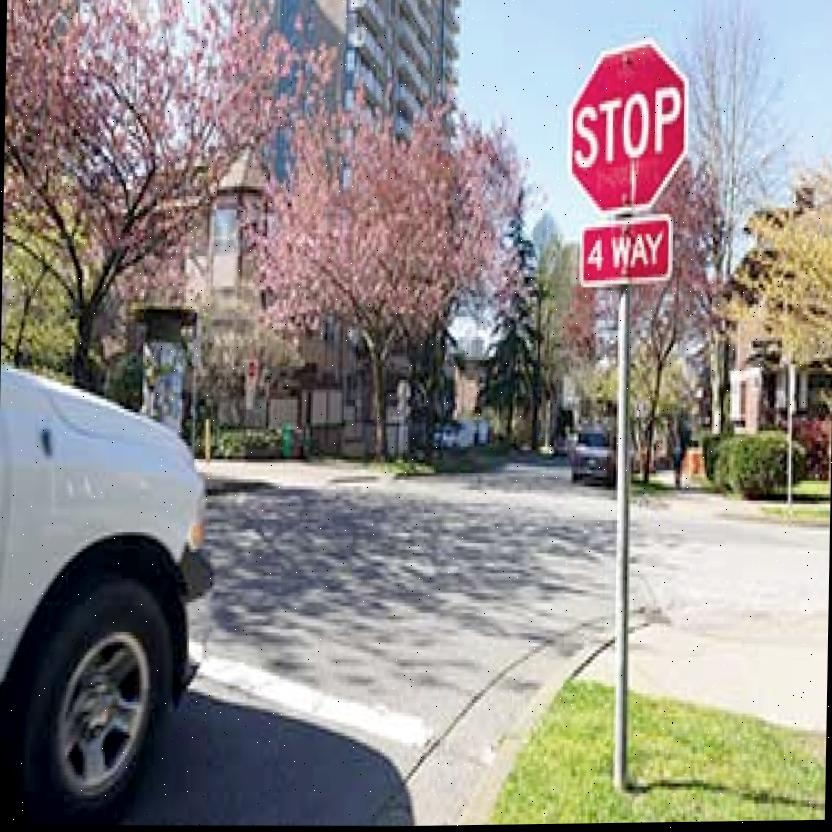Pole: (609, 293, 638, 795), (788, 418, 794, 509)
Sign: (570, 39, 688, 208)
